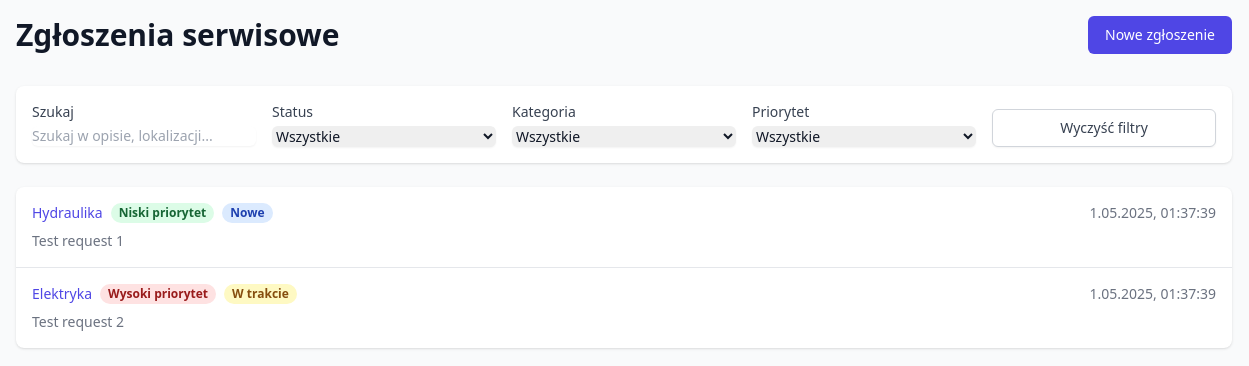
Test: ServiceRequestList › filters requests by status
Note: Open status filter
Select "W trakcie" in the dropdown labelled "Status" at (384, 136), box [272, 126, 496, 147]
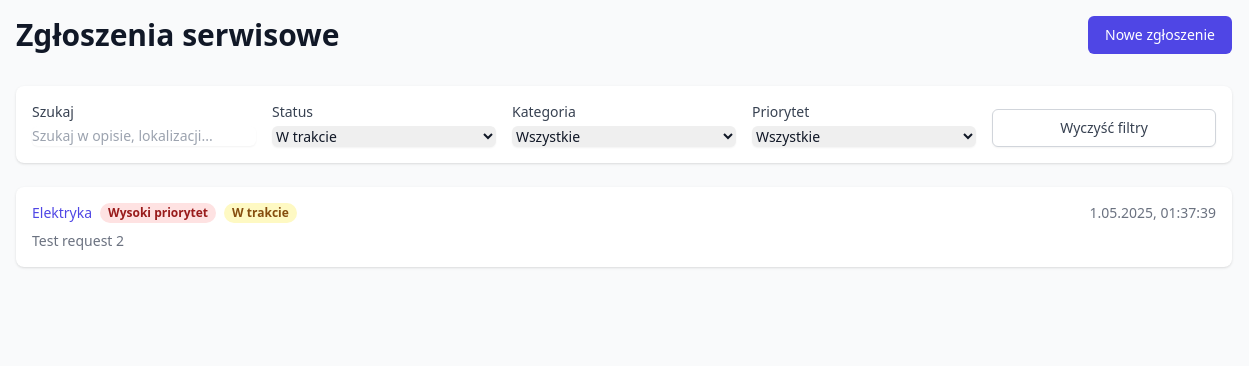
Expected: the text "Test request 2" is shown, [32, 231, 124, 250]
Result: the text "Test request 1" is gone
